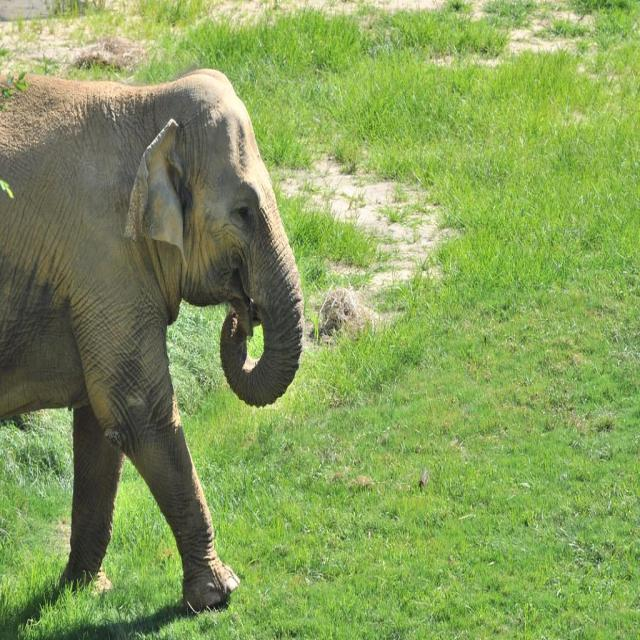Elephant: (2, 65, 303, 609)
